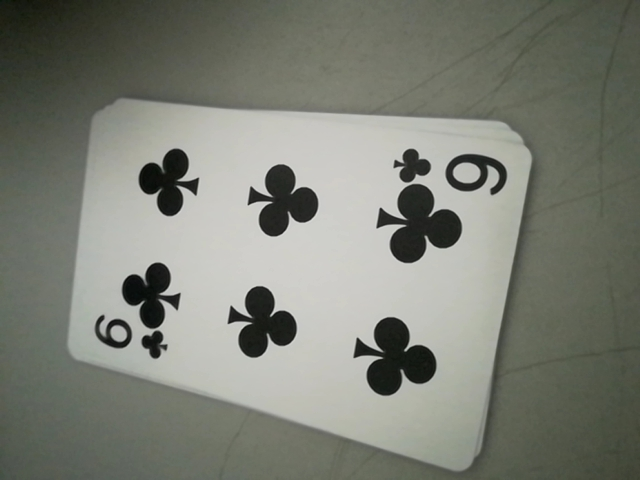mh 6: (390, 143, 514, 195), (89, 315, 172, 368)
